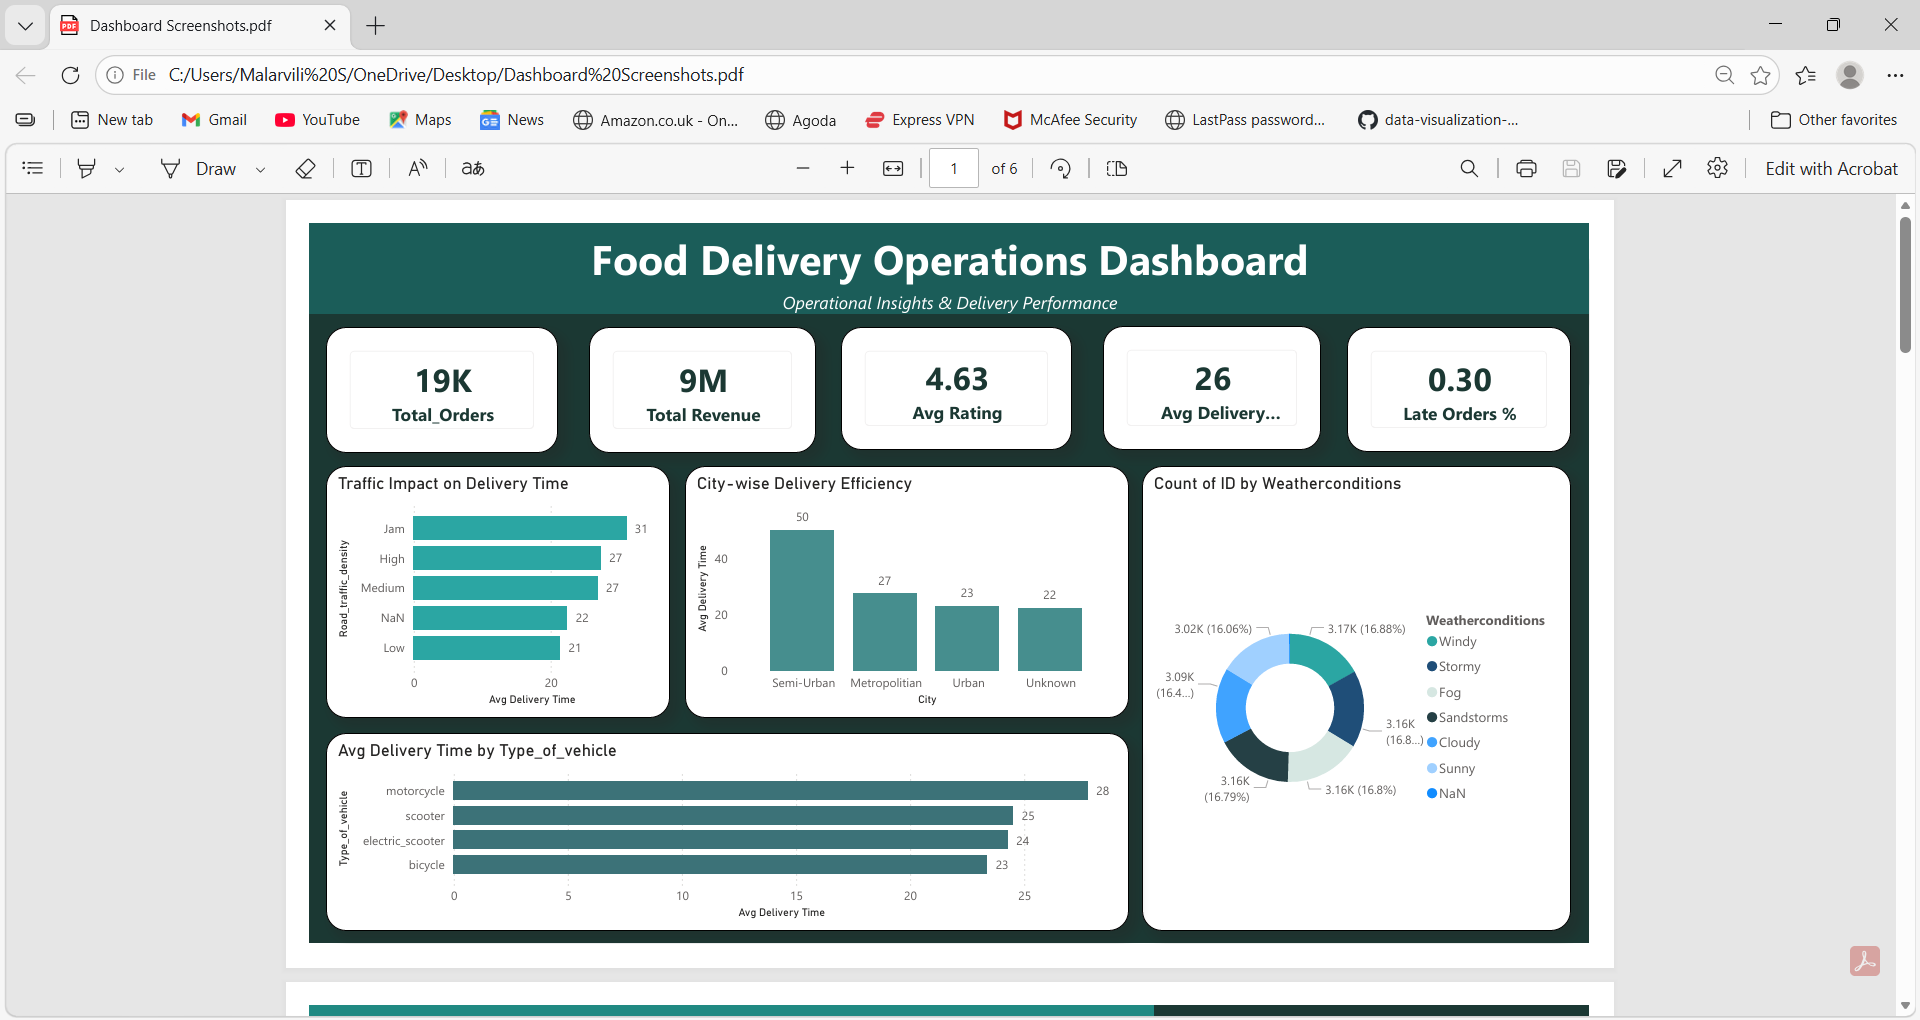

This screenshot's page, from the dashboard's own definition file:
{"tool":"powerbi","page":{"name":"Business Summary Page","canvas":[1280,720],"ordinal":0},"visuals":[{"type":"cardVisual","fields":{"Data":["orders.Total_Orders"]},"box":[16.5,102.9,231.9,126.2],"z":0},{"type":"cardVisual","fields":{"Data":["orders.Total Revenue"]},"box":[278.6,102.9,227.8,126.2],"z":1000},{"type":"cardVisual","fields":{"Data":["orders.Avg Delivery Time"]},"box":[793.1,101.5,218.2,124.9],"z":2000},{"type":"cardVisual","fields":{"Data":["orders.Avg Rating"]},"box":[531,102.9,230.5,123.5],"z":3000},{"type":"cardVisual","fields":{"Data":["orders.Late Orders %"]},"box":[1037.4,102.9,223.7,124.9],"z":4000},{"type":"textbox","title":"Food Delivery Operations Dashboard ","box":[0,0,1280.3,90.6],"z":5000},{"type":"clusteredBarChart","title":"Traffic Impact on Delivery Time","fields":{"Y":["orders.Avg Delivery Time"],"Category":["orders.Road_traffic_density"]},"box":[16.5,241.5,343.1,252.5],"z":6000},{"type":"columnChart","title":"City-wise Delivery Efficiency","fields":{"Y":["orders.Avg Delivery Time"],"Category":["orders.City"]},"box":[374.6,241.5,444.6,252.5],"z":7000},{"type":"donutChart","title":"Count of ID by Weatherconditions","fields":{"Category":["orders.Weatherconditions"],"Y":["CountNonNull(orders.ID)"]},"box":[831.6,241.5,429.5,465.2],"z":8000},{"type":"barChart","fields":{"Category":["orders.Type_of_vehicle"],"Y":["orders.Avg Delivery Time"]},"box":[16.5,509.1,802.7,197.6],"z":10000}]}

Visuals, with their boxes on the page's 1280x720 design canvas (x1, y1, x2, y2). These are canvas units, not pixel positions in the 1920x1020 screenshot, which may show the page scaled, cropped or inside an application window:
cardVisual - orders.Total_Orders: locate(16, 103, 248, 229)
cardVisual - orders.Total Revenue: locate(279, 103, 506, 229)
cardVisual - orders.Avg Delivery Time: locate(793, 102, 1011, 226)
cardVisual - orders.Avg Rating: locate(531, 103, 762, 226)
cardVisual - orders.Late Orders %: locate(1037, 103, 1261, 228)
"Food Delivery Operations Dashboard " textbox: locate(0, 0, 1280, 91)
"Traffic Impact on Delivery Time" clusteredBarChart: locate(16, 242, 360, 494)
"City-wise Delivery Efficiency" columnChart: locate(375, 242, 819, 494)
"Count of ID by Weatherconditions" donutChart: locate(832, 242, 1261, 707)
barChart - orders.Type_of_vehicle x orders.Avg Delivery Time: locate(16, 509, 819, 707)
